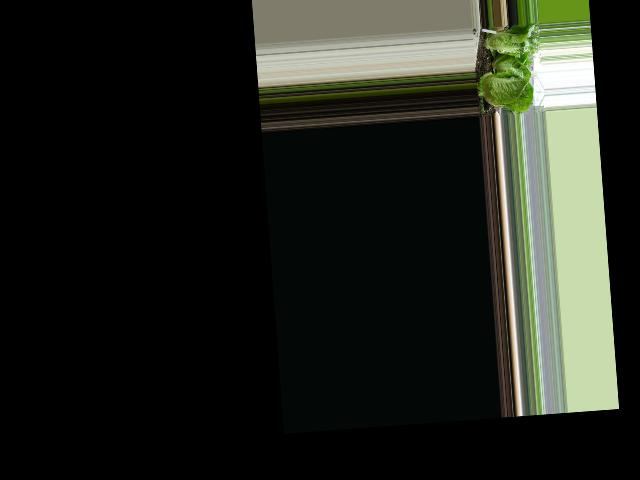lettuce: (477, 26, 536, 60)
